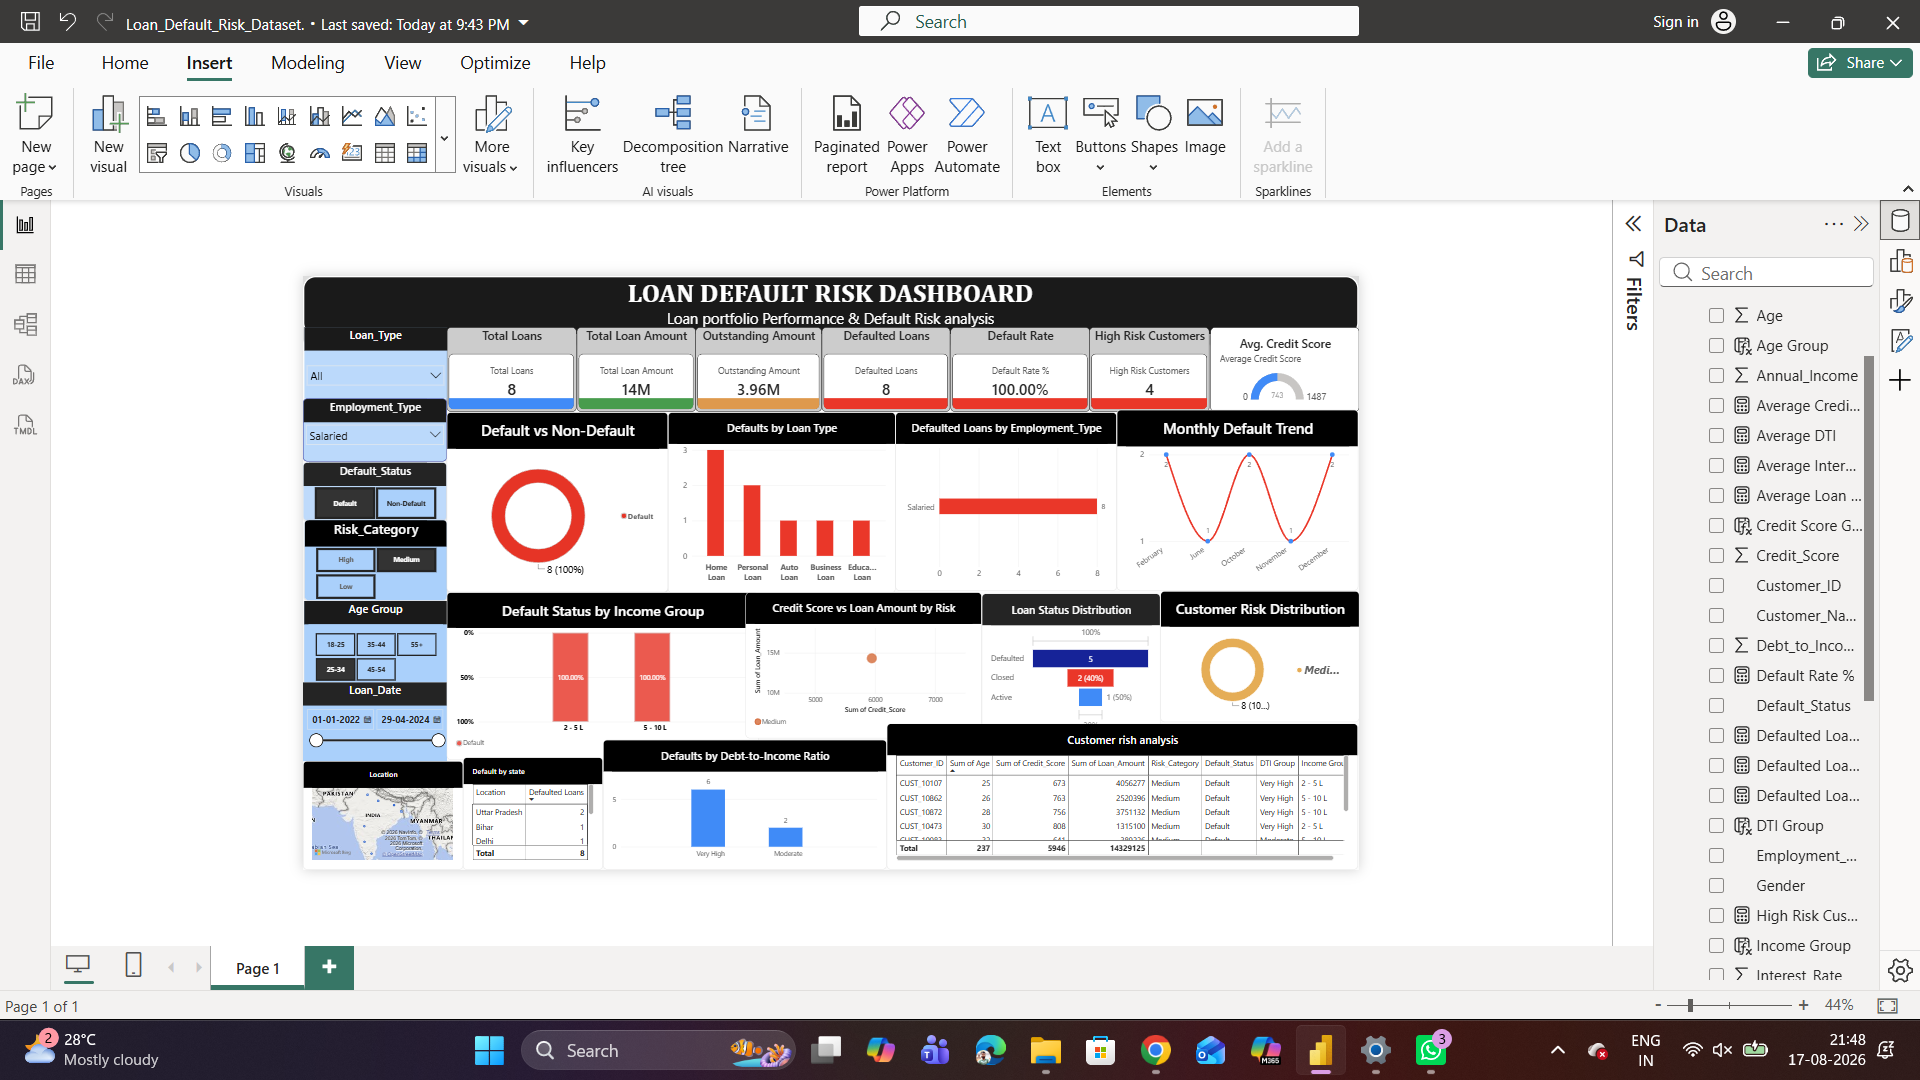

The dashboard page shown, as its layout file describes it:
{"tool":"powerbi","page":{"name":"Page 1","canvas":[1920,1080],"ordinal":0},"visuals":[{"type":"textbox","box":[0,0,1919.6,108.2],"z":0},{"type":"cardVisual","title":"Total Loans","fields":{"Data":["Loans.Total Loans"]},"box":[261.9,93.1,235.9,153.7],"z":1000},{"type":"cardVisual","title":"Total Loan Amount","fields":{"Data":["Loans.Total Loan Amount"]},"box":[497.8,93.1,216.4,153.7],"z":2000},{"type":"cardVisual","title":"Outstanding Amount","fields":{"Data":["Loans.Outstanding Amount"]},"box":[714.2,93.1,229.4,153.7],"z":3000},{"type":"cardVisual","title":"Defaulted Loans","fields":{"Data":["Loans.Defaulted Loans"]},"box":[943.6,93.1,233.7,153.7],"z":4000},{"type":"cardVisual","title":"Default Rate","fields":{"Data":["Loans.Default Rate %"]},"box":[1177.3,93.1,253.2,153.7],"z":5000},{"type":"cardVisual","title":"High Risk Customers","fields":{"Data":["Loans.High Risk Customers"]},"box":[1430.5,93.1,218.6,153.7],"z":6000},{"type":"gauge","title":"Avg. Credit Score","fields":{"Y":["Loans.Average Credit Score"]},"box":[1649.1,93.1,270.5,153.7],"z":7000},{"type":"slicer","title":"Loan_Type","fields":{"Values":["Loans.Loan_Type"]},"box":[2.2,93.1,259.7,129.8],"z":8000},{"type":"slicer","title":"Employment_Type","fields":{"Values":["Loans.Employment_Type"]},"box":[0,222.9,261.9,114.7],"z":9000},{"type":"slicer","title":"Default_Status","fields":{"Values":["Loans.Default_Status"]},"box":[0,337.6,261.9,106],"z":10000},{"type":"slicer","title":"Risk_Category","fields":{"Values":["Loans.Risk_Category"]},"box":[2.2,443.6,259.7,147.2],"z":11000},{"type":"slicer","title":"Loan_Date","fields":{"Values":["Loans.Loan_Date"]},"box":[0,738,261.9,142.8],"z":12000},{"type":"slicer","title":"Age Group","fields":{"Values":["Loans.Age Group"]},"box":[2.2,590.8,259.7,147.2],"z":13000},{"type":"donutChart","title":"Default vs Non-Default","fields":{"Category":["Loans.Default_Status"],"Y":["CountNonNull(Loans.Customer_ID)"]},"box":[261.4,247.7,402.3,327.3],"z":14000},{"type":"columnChart","title":"Defaults by Loan Type","fields":{"Category":["Loans.Loan_Type"],"Y":["Loans.Defaulted Loans"]},"box":[664.4,246.7,413.4,328.9],"z":15000},{"type":"clusteredBarChart","fields":{"Category":["Loans.Employment_Type"],"Y":["Loans.Defaulted Loans"]},"box":[1077.7,246.7,402.5,324.6],"z":16000},{"type":"lineChart","title":"Monthly Default Trend","fields":{"Category":["Loans.Loan_Date.Variation.Date Hierarchy.Month"],"Y":["Loans.Defaulted Loans"]},"box":[1480.3,242.4,439.3,328.9],"z":17000},{"type":"hundredPercentStackedColumnChart","title":"Default Status by Income Group","fields":{"Category":["Loans.Income Group"],"Series":["Loans.Default_Status"],"Y":["CountNonNull(Loans.Customer_ID)"]},"box":[261.9,575.7,567,305.1],"z":18000},{"type":"donutChart","title":"Customer Risk Distribution","fields":{"Category":["Loans.Risk_Category"],"Y":["CountNonNull(Loans.Customer_ID)"]},"box":[1559.1,572.7,361.4,238.6],"z":19000},{"type":"scatterChart","title":"Credit Score vs Loan Amount by Risk","fields":{"Series":["Loans.Risk_Category"],"Size":["Loans.Outstanding Amount"],"X":["Sum(Loans.Credit_Score)"],"Y":["Sum(Loans.Loan_Amount)"]},"box":[804.5,575,429.5,265.9],"z":20000},{"type":"clusteredColumnChart","title":"Defaults by Debt-to-Income Ratio","fields":{"Category":["Loans.DTI Group"],"Y":["Loans.Defaulted Loans"]},"box":[545.5,843.2,515.9,236.4],"z":21000},{"type":"funnel","title":"Loan Status Distribution","fields":{"Category":["Loans.Loan_Status"],"Y":["CountNonNull(Loans.Customer_ID)"]},"box":[1233.6,577.8,324.6,266.2],"z":22000},{"type":"map","title":"Location","fields":{"Category":["Loans.Location"],"Y":["Loans.Defaulted Loans"]},"box":[0,881.8,290.9,197.7],"z":23000},{"type":"tableEx","title":"Default by state","fields":{"Values":["Loans.Location","Loans.Defaulted Loans"]},"box":[290.9,875,254.5,204.5],"z":24000},{"type":"tableEx","title":"Customer rish analysis","fields":{"Values":["Loans.Customer_ID","Sum(Loans.Age)","Sum(Loans.Credit_Score)","Sum(Loans.Loan_Amount)","Loans.Risk_Category","Loans.Default_Status","Loans.DTI Group","Loans.Income Group"]},"box":[1061.4,813.6,856.8,265.9],"z":25000}]}

Visuals, with their boxes on the page's 1920x1080 design canvas (x1, y1, x2, y2). These are canvas units, not pixel positions in the 1920x1080 screenshot, which may show the page scaled, cropped or inside an application window:
textbox: box=[0, 0, 1920, 108]
"Total Loans" cardVisual: box=[262, 93, 498, 247]
"Total Loan Amount" cardVisual: box=[498, 93, 714, 247]
"Outstanding Amount" cardVisual: box=[714, 93, 944, 247]
"Defaulted Loans" cardVisual: box=[944, 93, 1177, 247]
"Default Rate" cardVisual: box=[1177, 93, 1430, 247]
"High Risk Customers" cardVisual: box=[1430, 93, 1649, 247]
"Avg. Credit Score" gauge: box=[1649, 93, 1920, 247]
"Loan_Type" slicer: box=[2, 93, 262, 223]
"Employment_Type" slicer: box=[0, 223, 262, 338]
"Default_Status" slicer: box=[0, 338, 262, 444]
"Risk_Category" slicer: box=[2, 444, 262, 591]
"Loan_Date" slicer: box=[0, 738, 262, 881]
"Age Group" slicer: box=[2, 591, 262, 738]
"Default vs Non-Default" donutChart: box=[261, 248, 664, 575]
"Defaults by Loan Type" columnChart: box=[664, 247, 1078, 576]
clusteredBarChart - Loans.Employment_Type x Loans.Defaulted Loans: box=[1078, 247, 1480, 571]
"Monthly Default Trend" lineChart: box=[1480, 242, 1920, 571]
"Default Status by Income Group" hundredPercentStackedColumnChart: box=[262, 576, 829, 881]
"Customer Risk Distribution" donutChart: box=[1559, 573, 1920, 811]
"Credit Score vs Loan Amount by Risk" scatterChart: box=[804, 575, 1234, 841]
"Defaults by Debt-to-Income Ratio" clusteredColumnChart: box=[546, 843, 1061, 1080]
"Loan Status Distribution" funnel: box=[1234, 578, 1558, 844]
"Location" map: box=[0, 882, 291, 1080]
"Default by state" tableEx: box=[291, 875, 545, 1080]
"Customer rish analysis" tableEx: box=[1061, 814, 1918, 1080]
